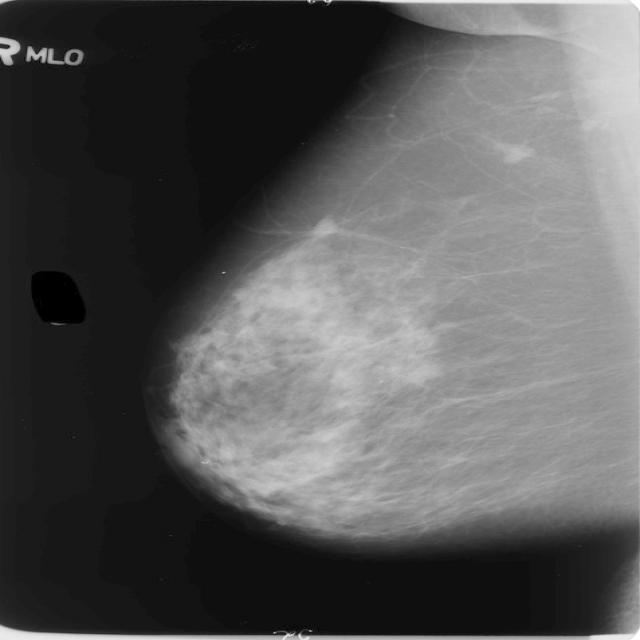tumour: (313, 215, 334, 236)
